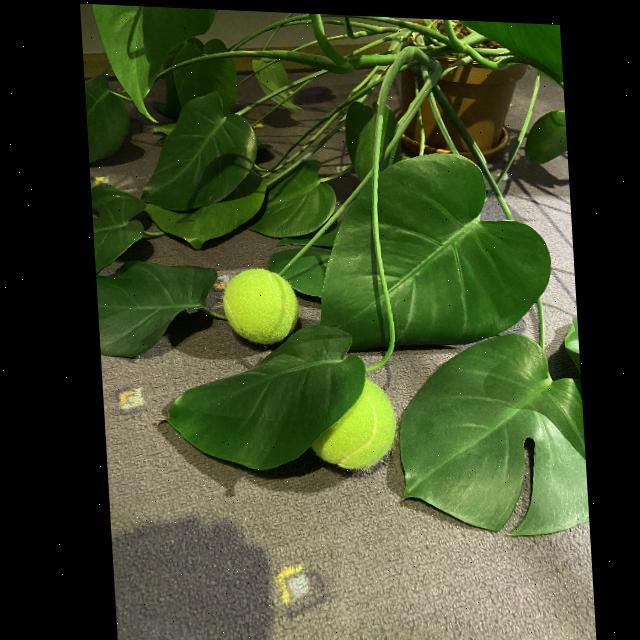Tennisball: (312, 379, 396, 470), (223, 269, 298, 344)
